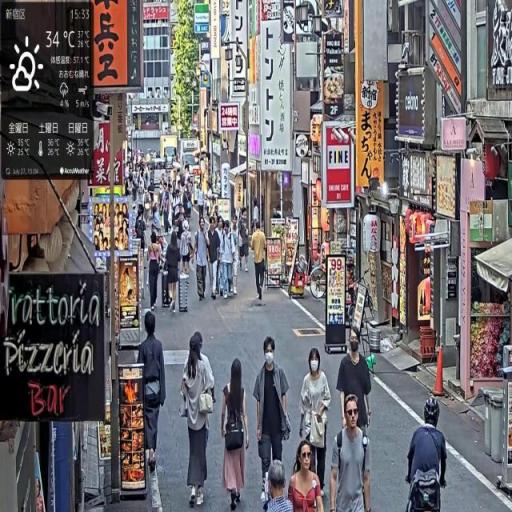person: (179, 329, 217, 511), (254, 335, 293, 511), (300, 347, 333, 502), (406, 394, 449, 509), (331, 392, 372, 512), (220, 356, 251, 512), (139, 311, 168, 472), (338, 331, 374, 437), (289, 438, 326, 512), (262, 462, 297, 512), (251, 219, 269, 306), (195, 217, 212, 301), (166, 232, 182, 316), (228, 219, 241, 295)
